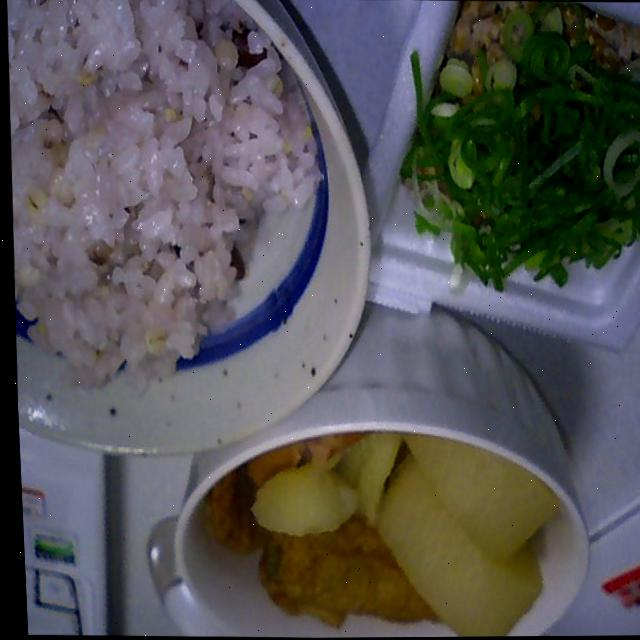汤锅炖物: (190, 428, 557, 639)
